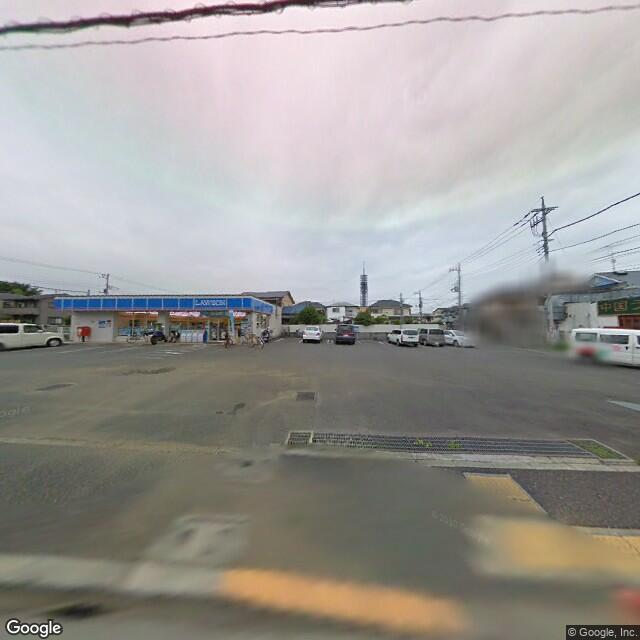lawson: (52, 288, 276, 315)
